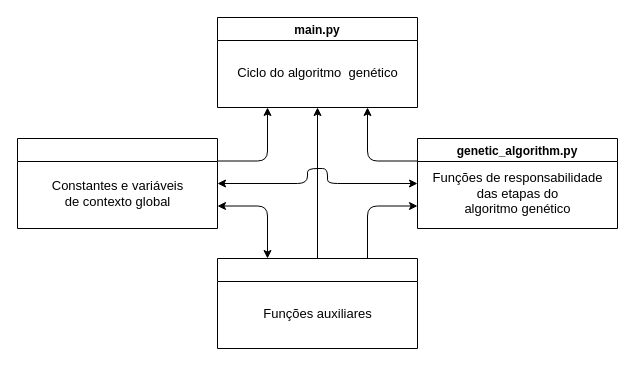
The diagram is 635 pixels wide and 366 high, and some of its shapes have lost their labels. Here are the shapes that lost their labels. From the top down, the box of each, then its label:
(16, 138, 218, 228): variables.py
(216, 258, 418, 348): utils.py
